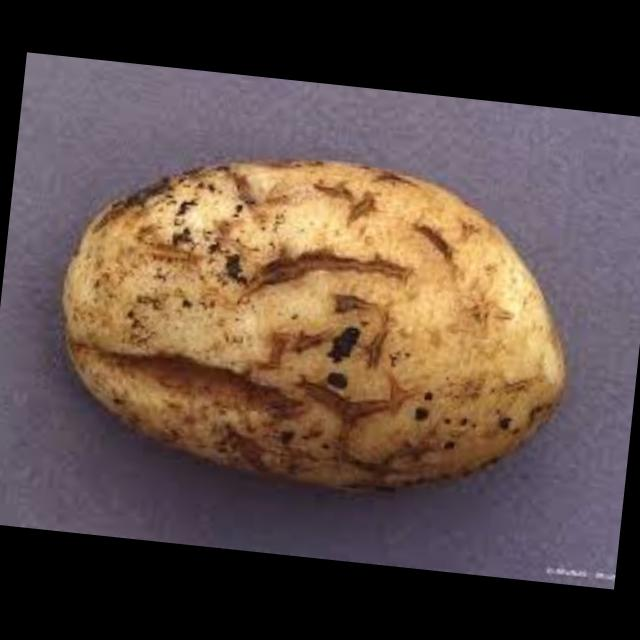Damaged potato: (41, 127, 586, 514)
